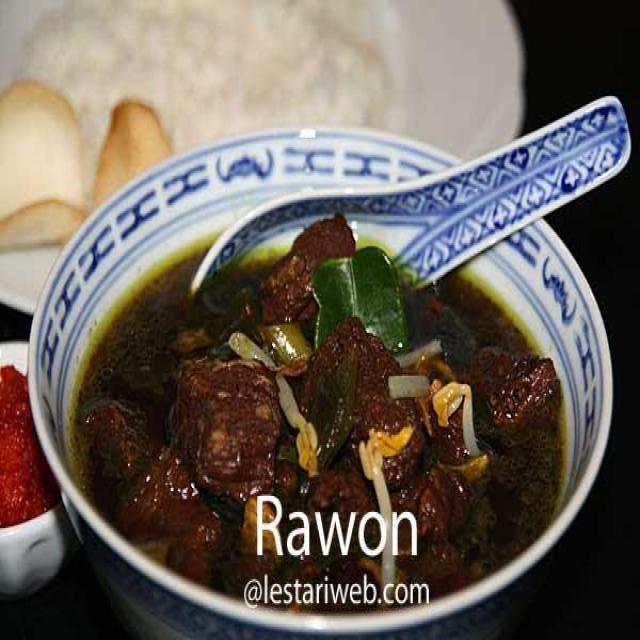Rawon: (89, 210, 560, 580)
